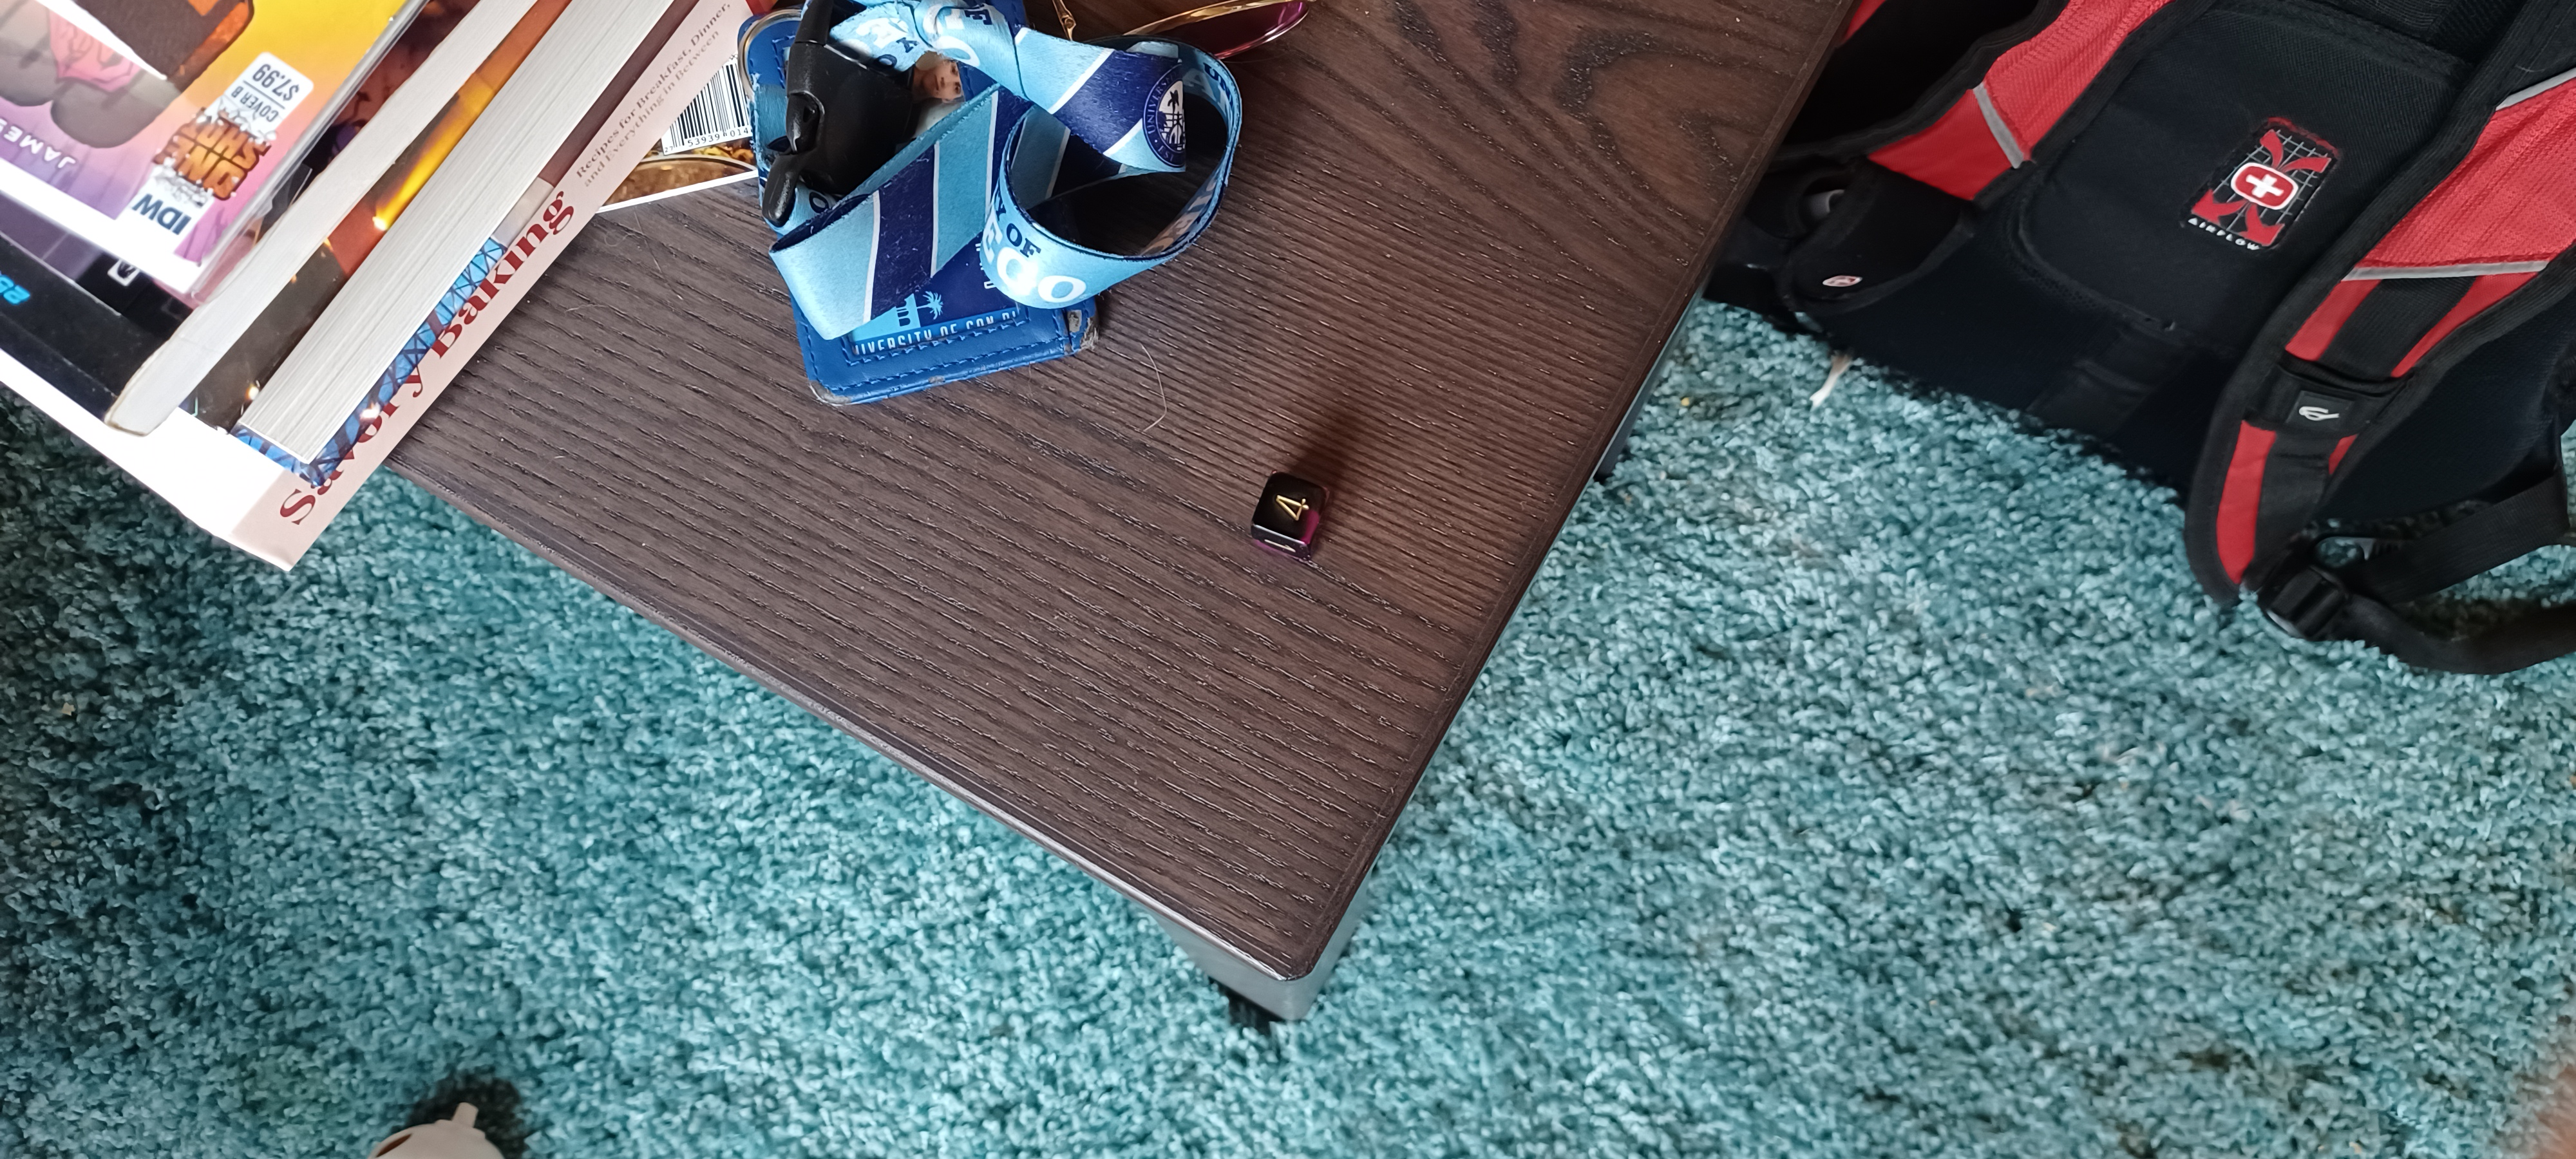four: (1229, 443, 1350, 573)
